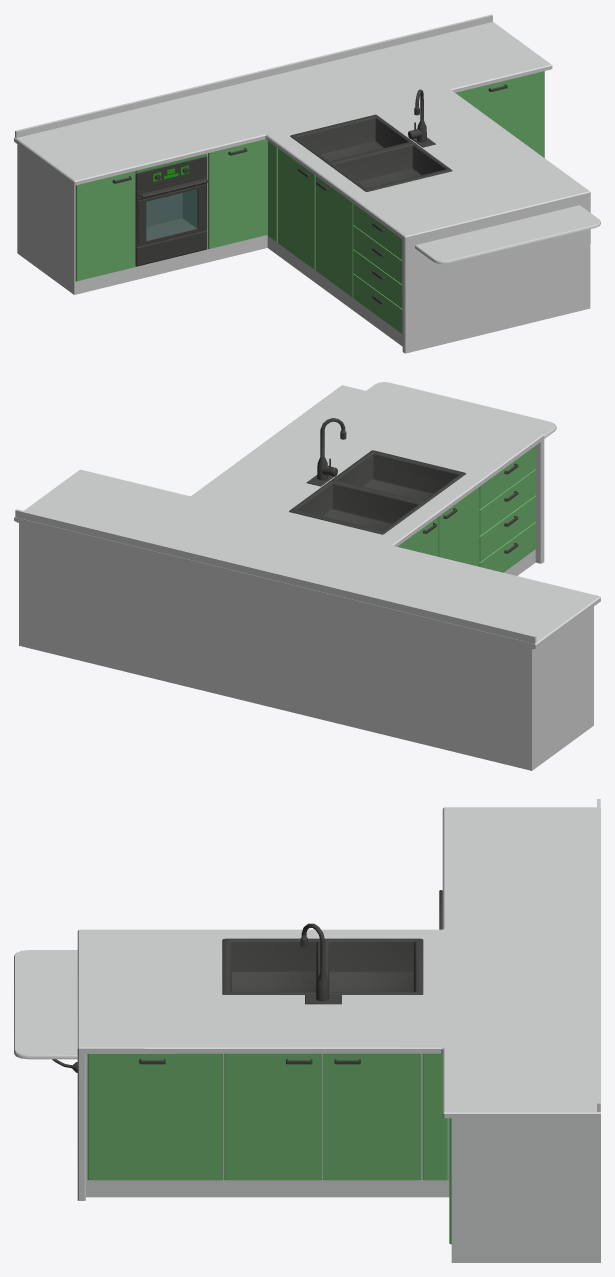
Rendered from HAIERZTKG0201.FBX.
3 views of the same model, one above another, from view 1: azimuth 30°, elevation 25°; view 2: azimuth 150°, elevation 25°; view 3: azimuth 270°, elevation 25° (orthographic). The views are drawn at different scales.
Parts seen in each view (by area): view 1: HAIERZTKG0201; view 2: HAIERZTKG0201; view 3: HAIERZTKG0201.
Part boxes in pixels (x1=…): HAIERZTKG0201: x1=14, y1=14, x2=600, y2=353; HAIERZTKG0201: x1=14, y1=382, x2=600, y2=770; HAIERZTKG0201: x1=14, y1=799, x2=600, y2=1262.
Bounding box in the file's own units: 374 × 304 × 129.
